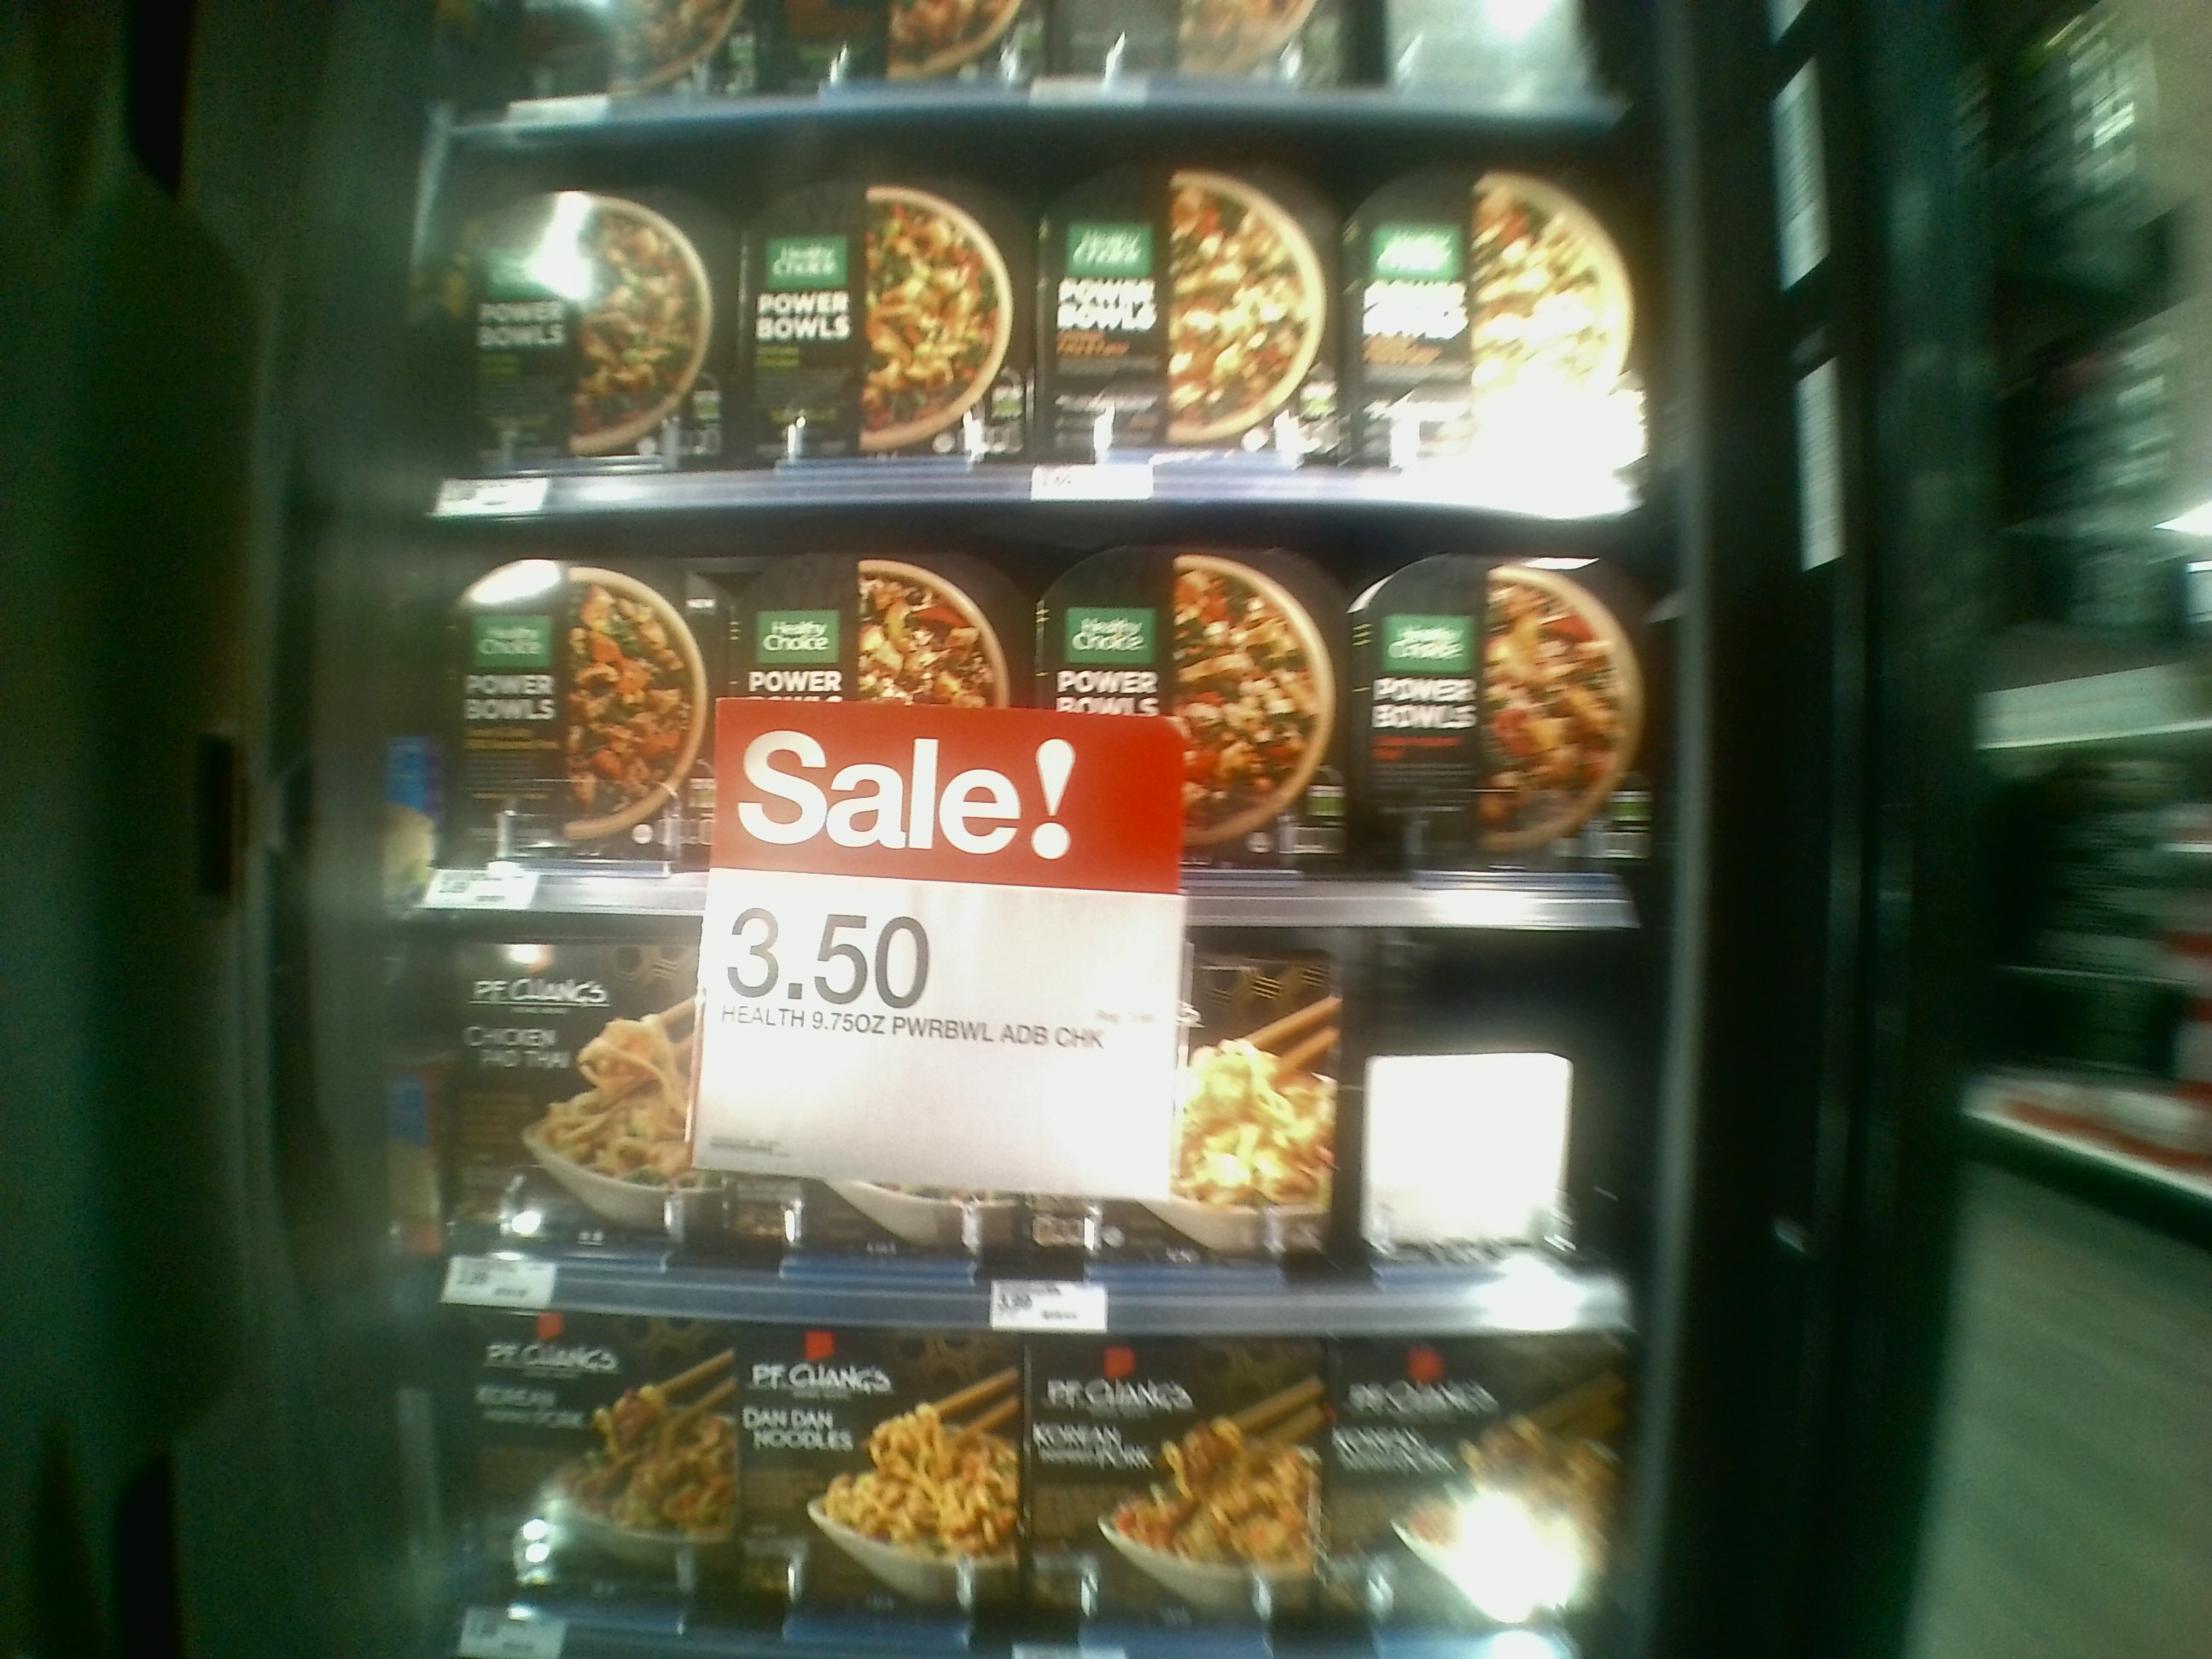shelf: (425, 498, 1629, 924), (432, 910, 1623, 1333), (434, 117, 1648, 518)
